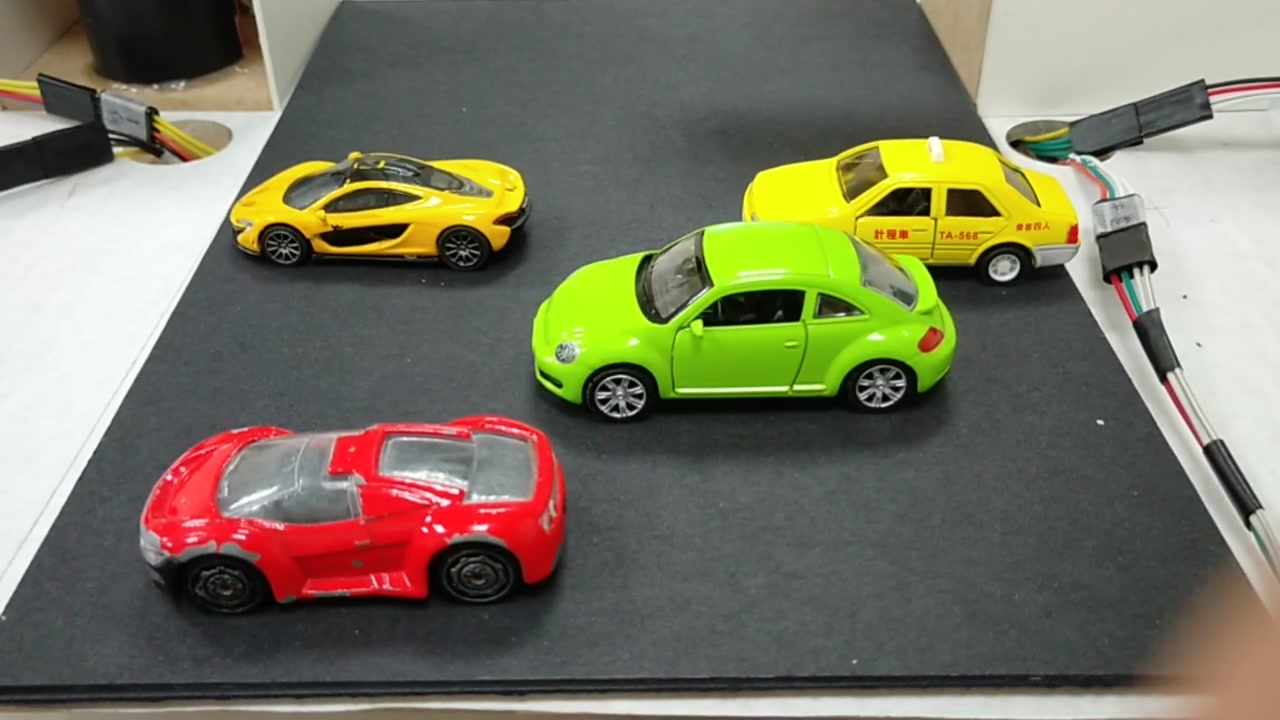car: (130, 413, 564, 601), (526, 241, 954, 398), (750, 150, 1079, 276), (232, 155, 529, 272)
